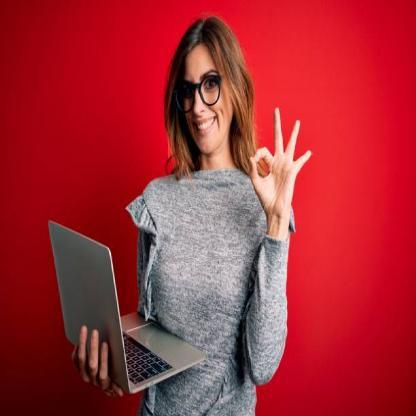ok: (247, 102, 316, 222)
